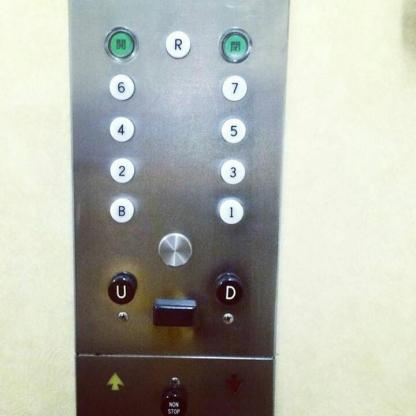1: (218, 198, 243, 223)
2: (110, 158, 133, 182)
3: (220, 159, 245, 183)
4: (108, 116, 134, 141)
5: (219, 117, 246, 142)
6: (108, 73, 134, 100)
7: (221, 75, 246, 100)
B: (110, 198, 133, 221)
D: (213, 274, 242, 305)
R: (163, 30, 191, 59)
U: (107, 274, 136, 304)
down: (222, 372, 244, 394)
empty: (153, 298, 197, 327), (156, 232, 192, 267)
text: (218, 28, 252, 63), (105, 26, 138, 61), (160, 389, 190, 416)
up: (103, 370, 125, 392)
